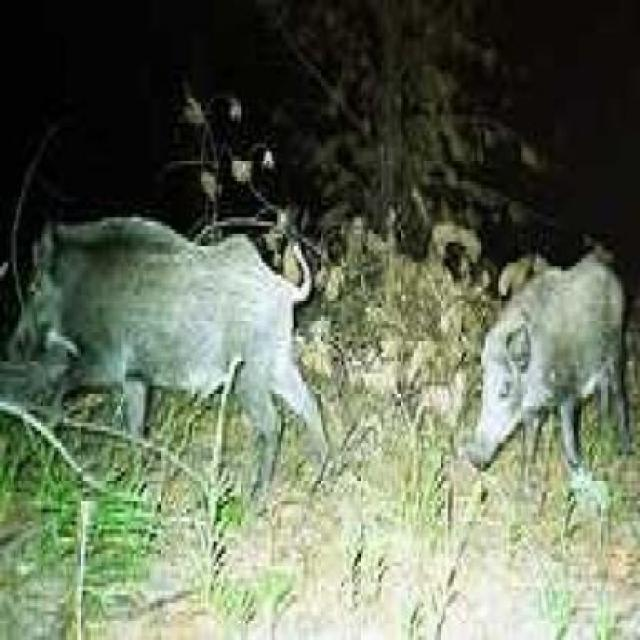pig: (3, 152, 337, 540), (442, 231, 634, 487)
